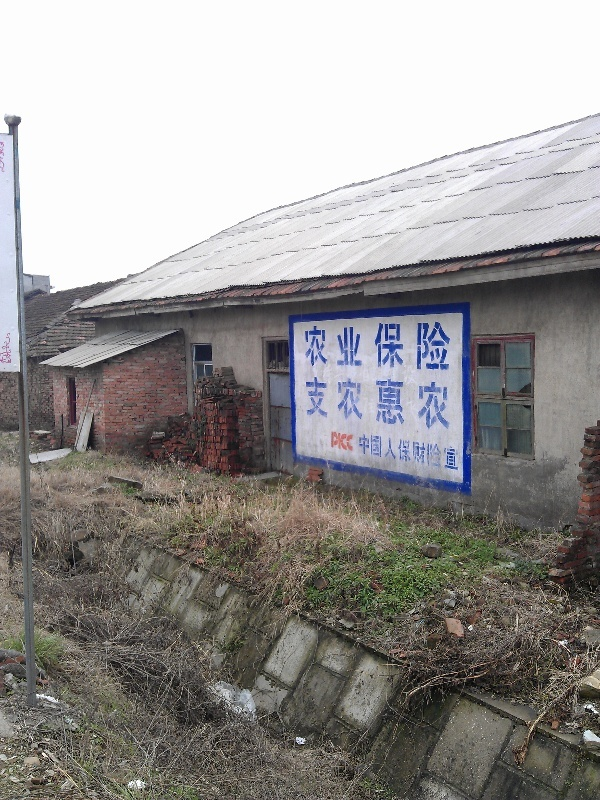text: (305, 375, 320, 432), (321, 375, 336, 432), (337, 375, 352, 432), (353, 375, 368, 432), (369, 375, 384, 432), (385, 375, 400, 432), (401, 375, 416, 432), (417, 375, 432, 432), (433, 375, 448, 432), (305, 320, 320, 371), (321, 320, 336, 371), (337, 320, 352, 371), (353, 320, 368, 371), (369, 320, 384, 371), (385, 320, 400, 371), (401, 320, 416, 371), (417, 320, 432, 371), (433, 320, 448, 371), (369, 433, 384, 472), (385, 433, 400, 472), (401, 433, 416, 472), (417, 433, 432, 472), (433, 433, 448, 472), (449, 433, 460, 472), (359, 433, 368, 472), (337, 431, 352, 452), (449, 320, 452, 371), (449, 375, 451, 432), (331, 431, 336, 452), (303, 320, 304, 371), (353, 431, 355, 452)
